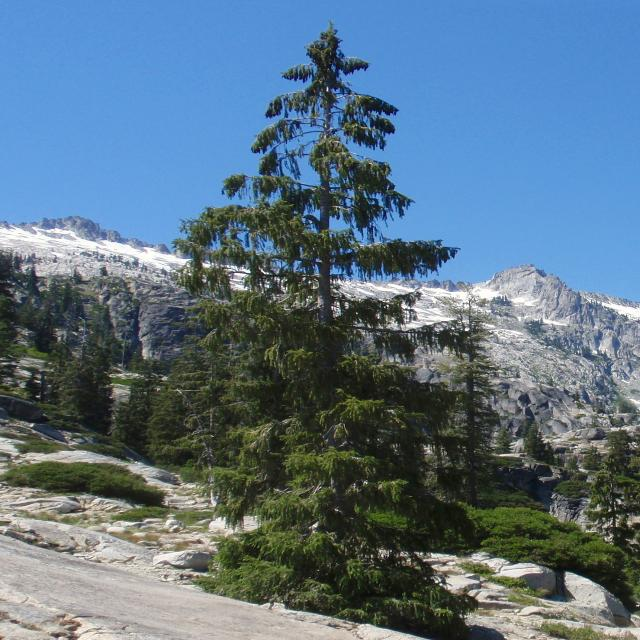Picea breweriana: (182, 24, 465, 639)
